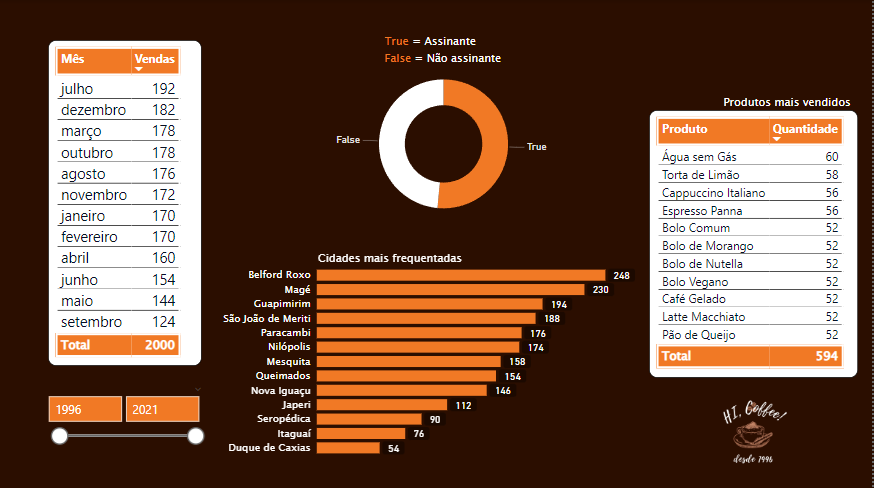

What the dashboard file says about the page in this screenshot:
{"tool":"powerbi","page":{"name":"Página 1","canvas":[1280,720],"ordinal":0},"visuals":[{"type":"donutChart","fields":{"Category":["public dim_cliente.assinatura_cliente"],"Y":["_medidas.clientes"]},"box":[459.5,77.6,384.9,266.3],"z":0},{"type":"tableEx","fields":{"Values":["public dim_produto.nm_produto","_medidas.produto"]},"box":[952.7,161,305.9,392.2],"z":1000},{"type":"tableEx","fields":{"Values":["public ft_venda.dt_venda.Variation.Hierarquia de datas.Mês","CountNonNull(public ft_venda.data_de_locacao)"]},"box":[73.2,58.5,225.4,477.1],"z":2000},{"type":"slicer","fields":{"Values":["public ft_venda.dt_venda.Variation.Hierarquia de datas.Ano"]},"box":[61.5,559,248.8,102.4],"z":3000},{"type":"barChart","fields":{"Category":["public dim_loja.cidade_loja"],"Y":["_medidas.loja"]},"box":[323.4,373.2,658.5,304.4],"z":4000},{"type":"image","box":[1020,559,169.8,153.7],"z":5000},{"type":"textbox","box":[1050.7,131.7,207.8,58.5],"z":6000},{"type":"textbox","box":[442,360,263.4,43.9],"z":7000},{"type":"textbox","box":[560.5,42.4,234.1,68.8],"z":8000}]}

Visuals, with their boxes in screenshot pixels (x1, y1, x2, y2), scaled from the page's 1280x720 canvas onto the 874x488 screenshot:
donutChart - public dim_cliente.assinatura_cliente x _medidas.clientes: [314, 53, 577, 233]
tableEx - public dim_produto.nm_produto x _medidas.produto: [651, 109, 859, 375]
tableEx - public ft_venda.dt_venda.Variation.Hierarquia de datas.Mês x CountNonNull(public ft_venda.data_de_locacao): [50, 40, 204, 363]
slicer - public ft_venda.dt_venda.Variation.Hierarquia de datas.Ano: [42, 379, 212, 448]
barChart - public dim_loja.cidade_loja x _medidas.loja: [221, 253, 670, 459]
image: [696, 379, 812, 483]
textbox: [717, 89, 859, 129]
textbox: [302, 244, 482, 274]
textbox: [383, 29, 543, 75]
